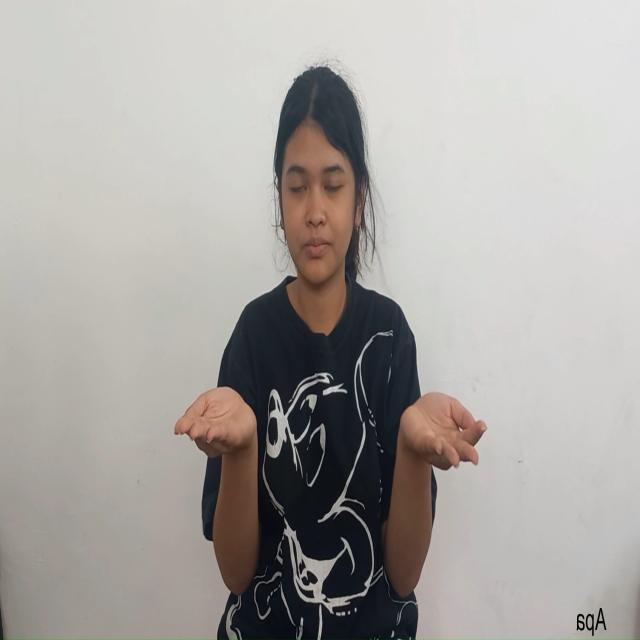Apa -BISINDO-: (159, 358, 495, 596)
